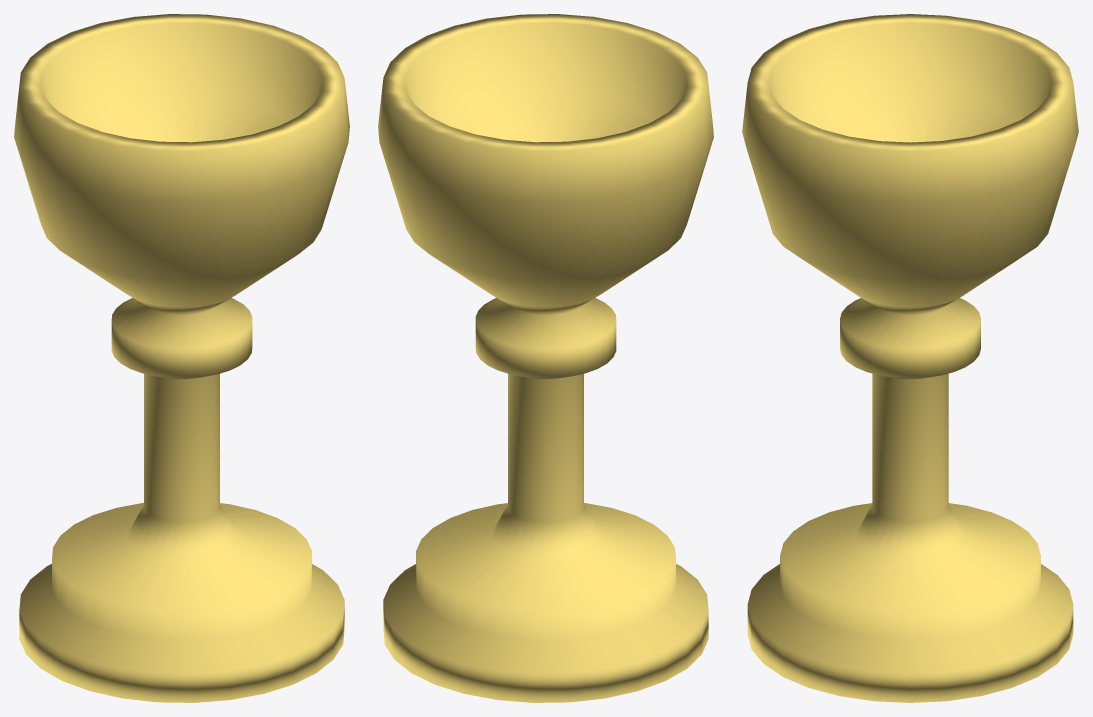
Rendered from tropi.glb.
The picture shows the model from 3 angles, left to right: view 1: azimuth 30°, elevation 25°; view 2: azimuth 150°, elevation 25°; view 3: azimuth 270°, elevation 25°; orthographic projection.
Visible parts, largest first — view 1: Tropi; view 2: Tropi; view 3: Tropi.
Part boxes in pixels (x1,y1,x2,y2): Tropi: (14, 14, 349, 702); Tropi: (378, 14, 713, 702); Tropi: (742, 14, 1078, 702).
Size of the model in its own units: 0.62 by 1.12 by 0.62.
